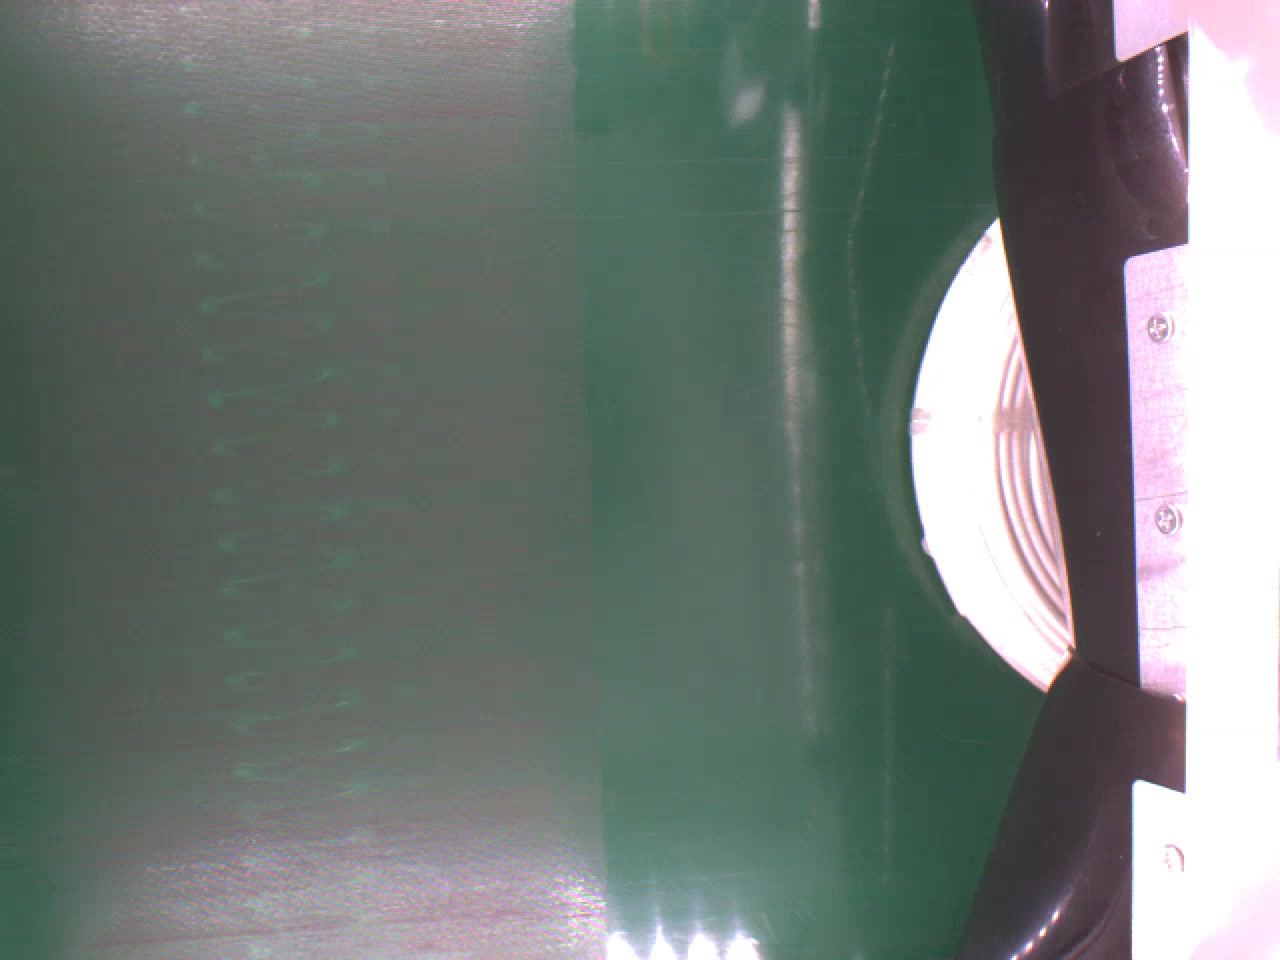white: (908, 214, 1069, 692)
